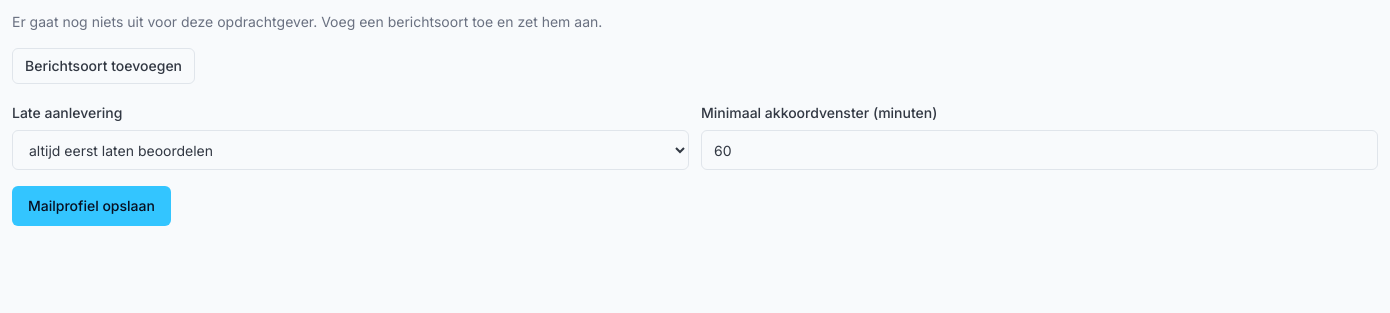
Test: the mail profile on screen › reports a save refusal in the words the server chose
Click the button "Mailprofiel opslaan". click: (91, 206)
box: x1=12 y1=186 x2=171 y2=226
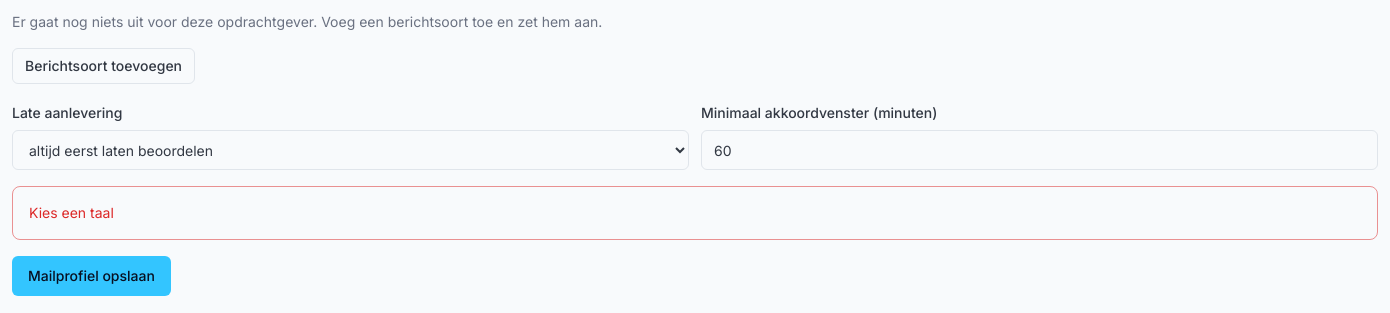
Expected: the text "Kies een taal" is shown, x1=29 y1=204 x2=114 y2=221
